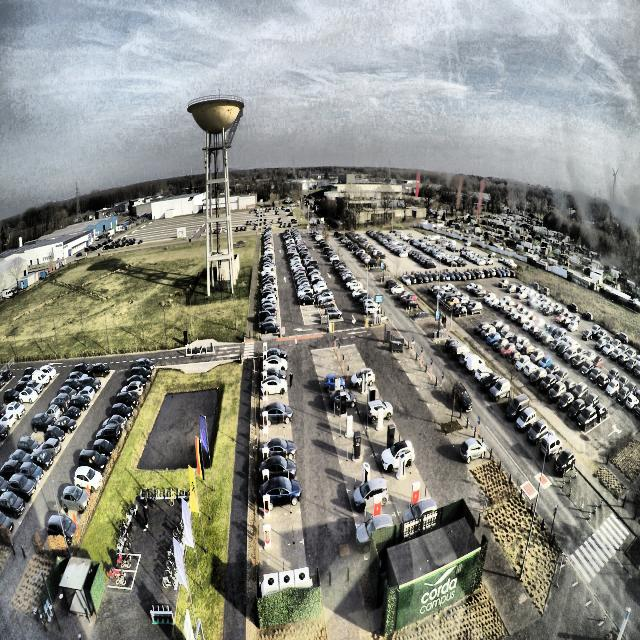cabinet: (264, 567, 310, 590)
car: (260, 475, 302, 513), (260, 456, 297, 482), (261, 401, 294, 426), (261, 438, 297, 460), (260, 375, 290, 397), (260, 367, 288, 385), (263, 354, 288, 372), (264, 348, 289, 364)
parking: (260, 510, 303, 548), (260, 542, 306, 577), (259, 484, 300, 517), (259, 463, 297, 491), (259, 444, 295, 469), (259, 426, 294, 449), (260, 411, 291, 430), (260, 397, 289, 414), (260, 385, 288, 400), (261, 374, 287, 387), (261, 353, 285, 366), (261, 364, 286, 376)
supercharger: (263, 525, 271, 548), (263, 495, 271, 517), (262, 469, 269, 489), (262, 448, 269, 464), (263, 429, 269, 445), (263, 412, 268, 429), (262, 384, 268, 397), (263, 397, 268, 412), (263, 372, 268, 383), (263, 351, 267, 363), (263, 361, 267, 372), (263, 343, 267, 352)
